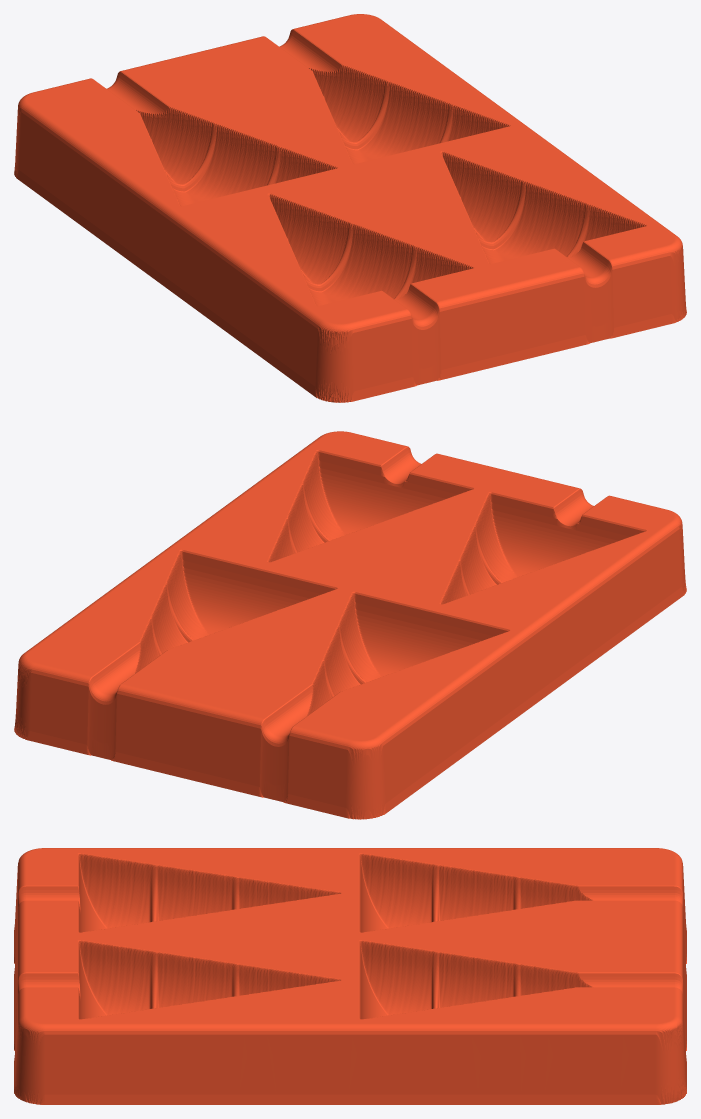
Rendered from mold.glb.
3 renders of one model, top to bottom at view 1: azimuth 30°, elevation 25°; view 2: azimuth 150°, elevation 25°; view 3: azimuth 270°, elevation 25°, orthographic. The views are drawn at different scales.
Visible parts, largest first — view 1: geometry_0; view 2: geometry_0; view 3: geometry_0.
Boxes of the visible parts, bbox=[...] form: geometry_0: bbox=[14, 14, 686, 402]; geometry_0: bbox=[14, 431, 686, 819]; geometry_0: bbox=[14, 848, 686, 1104].
Bounding box in the file's own units: 0.1283 × 0.0245 × 0.1968.
